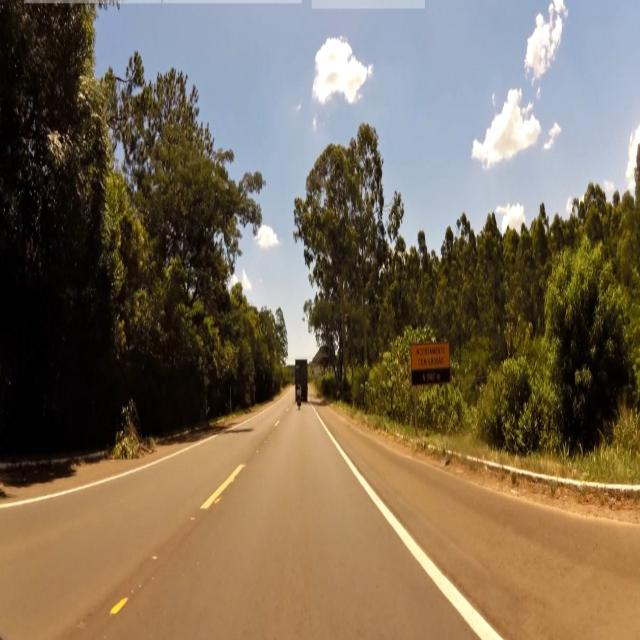ESP-20: (411, 344, 450, 382)
